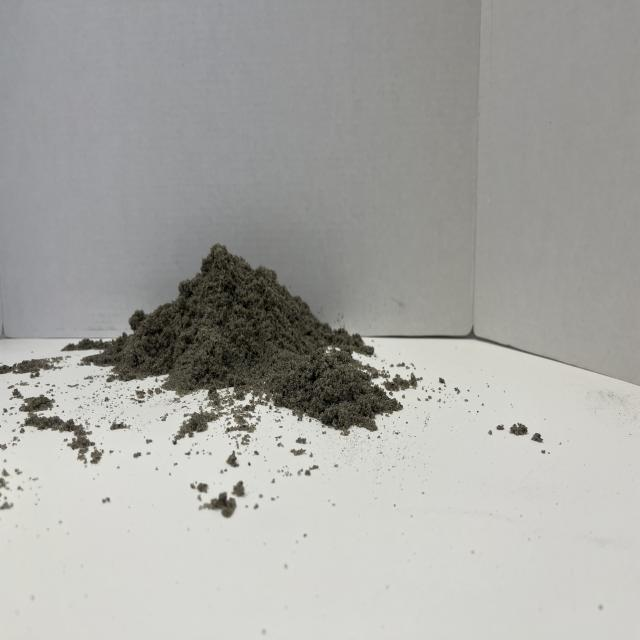sand: (108, 224, 357, 424)
